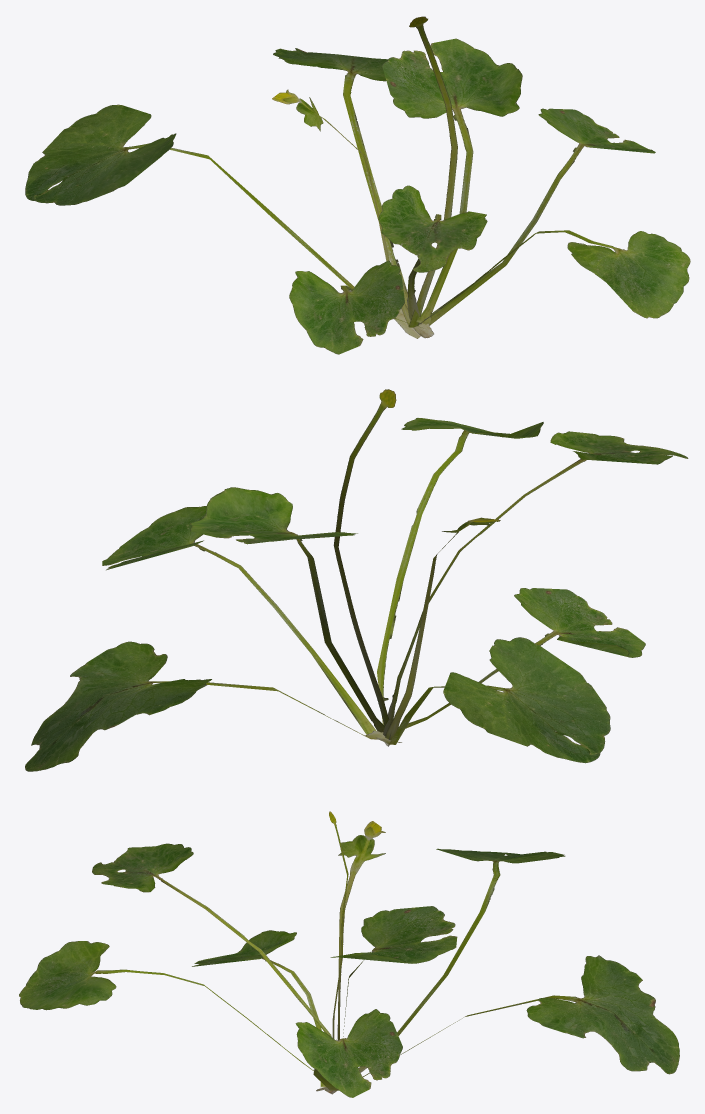
Rendered from celandine_01_b.gltf.
3 views of the same model, one above another, from view 1: azimuth 30°, elevation 25°; view 2: azimuth 150°, elevation 25°; view 3: azimuth 270°, elevation 25° (orthographic). The views are drawn at different scales.
Parts seen in each view (by area): view 1: celandine_01_b__x; view 2: celandine_01_b__x; view 3: celandine_01_b__x.
Part boxes in pixels (x1,y1,x2,y2): celandine_01_b__x: (25,16,690,354); celandine_01_b__x: (25,389,688,771); celandine_01_b__x: (19,811,679,1097).
Size of the model in its own units: 0.2531 by 0.1431 by 0.3106.
Materials: 1 (1 with a texture image).
